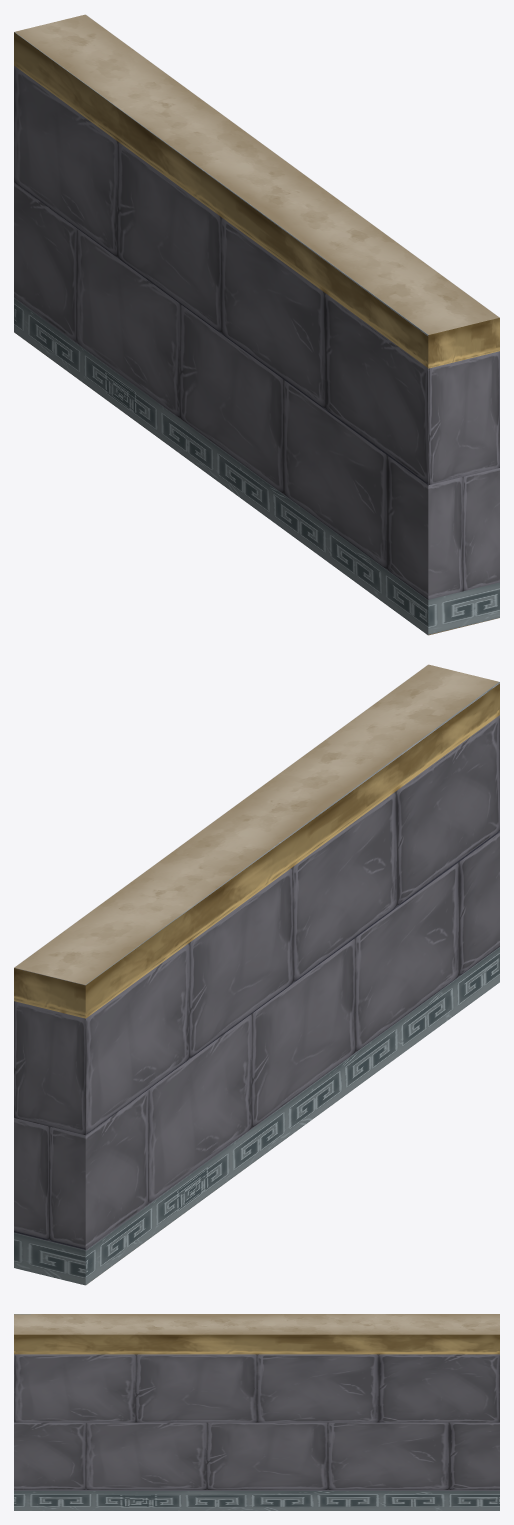
File: miniwall.fbx
3 views of the same model, one above another, from view 1: azimuth 30°, elevation 25°; view 2: azimuth 150°, elevation 25°; view 3: azimuth 270°, elevation 25° (orthographic). The views are drawn at different scales.
Visible parts, largest first — view 1: Cube; view 2: Cube; view 3: Cube.
Boxes of the visible parts, bbox=[...] form: Cube: bbox=[14, 14, 499, 635]; Cube: bbox=[14, 664, 499, 1285]; Cube: bbox=[14, 1314, 499, 1510].
Bounding box in the file's own units: 50 × 200 × 500.
